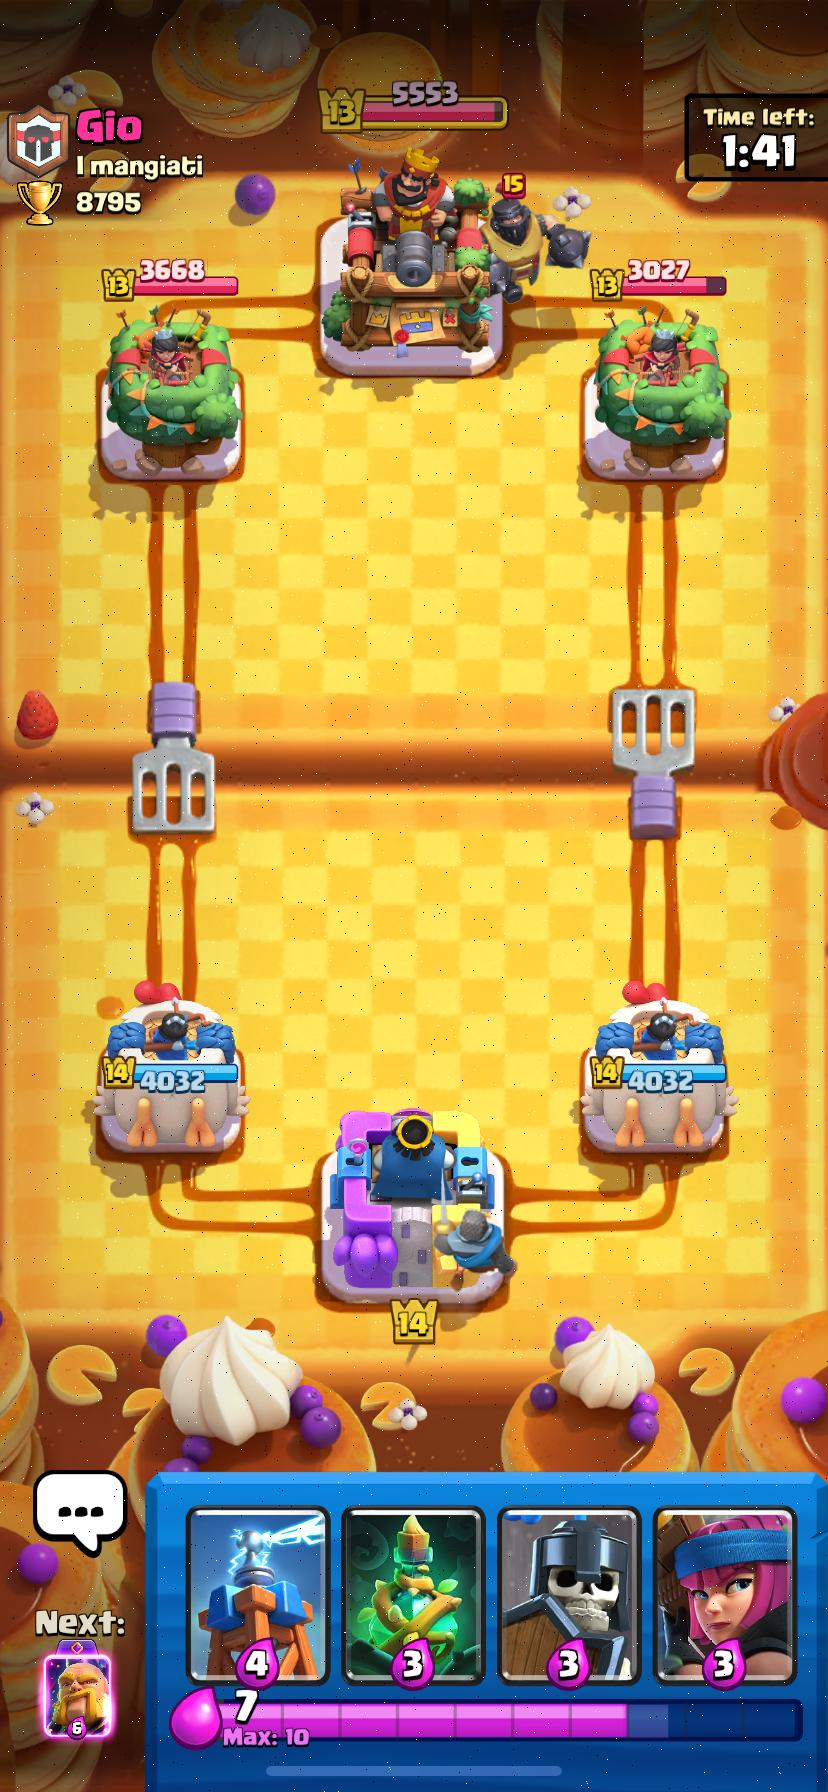EKingTower: (321, 147, 496, 374)
EMegaKnight: (483, 199, 594, 303)
EnemyPrincessTower: (594, 309, 729, 477), (106, 310, 241, 453)
OKnight: (443, 1211, 513, 1278)
OwnKingTower: (321, 1109, 503, 1302)
OwnPrincessTower: (580, 982, 735, 1154), (93, 983, 248, 1152)
